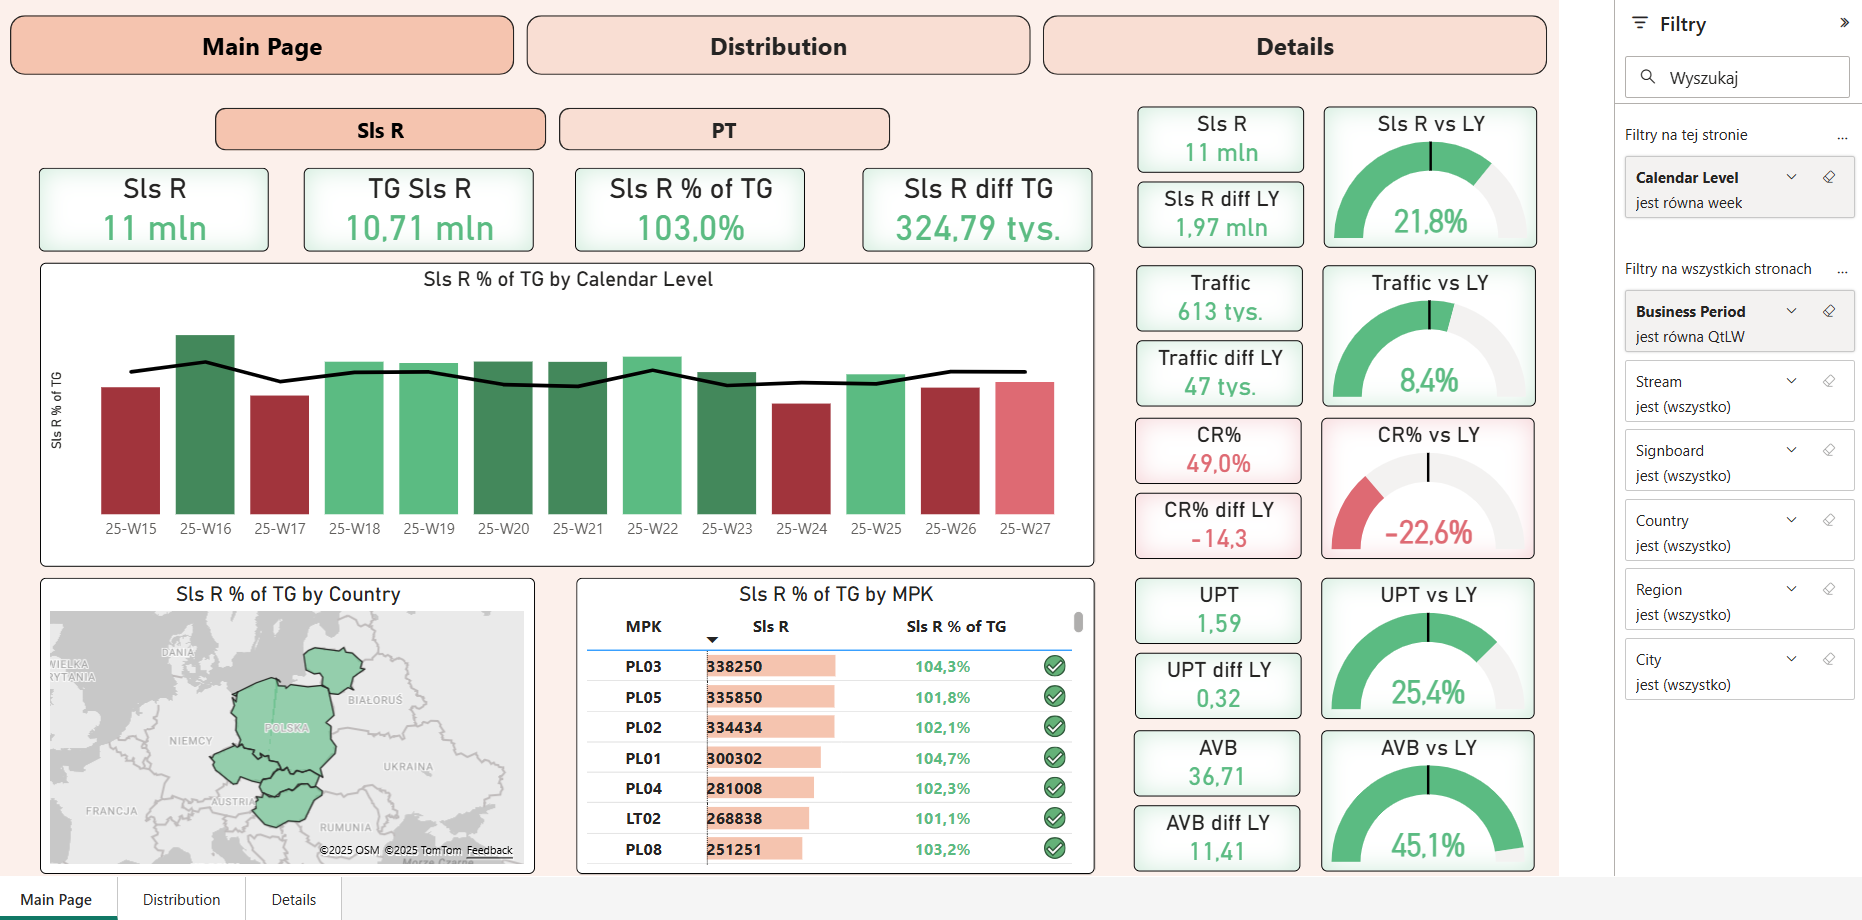

This screenshot's page, from the dashboard's own definition file:
{"tool":"powerbi","page":{"name":"Main Page","canvas":[1280,720],"ordinal":0},"visuals":[{"type":"card","title":"Sls R","fields":{"Values":["Sum(corrected_sales_calendar.Sls R)"]},"box":[933.8,88.5,137.2,54.1],"z":0,"group":"g2"},{"type":"group","id":"g1","title":"Group 3","box":[31.9,138.9,866.9,579.4],"z":0},{"type":"gauge","title":"Sls R vs LY","fields":{"MinValue":["corrected_sales_calendar.Minimum value"],"MaxValue":["corrected_sales_calendar.Maximum value"],"Y":["corrected_sales_calendar.Sls R vs LY"],"TargetValue":["corrected_sales_calendar.Target Value"]},"box":[1087.5,88.5,175.6,116.1],"z":1000,"group":"g2"},{"type":"azureMap","title":"Sls R % of TG by Country","fields":{"Category":["corrected_sales_calendar.Country Full Name"]},"box":[32.9,475.2,406.1,243.1],"z":1000,"group":"g1"},{"type":"group","id":"g2","title":"Group 4","box":[931.1,88.5,331.9,628.1],"z":2000},{"type":"card","title":"Sls R diff LY","fields":{"Values":["corrected_sales_calendar.Sls R diff LY"]},"box":[933.8,150.5,137.2,54.1],"z":2000,"group":"g2"},{"type":"bookmarkNavigator","box":[177,89.2,555.7,35.7],"z":3000},{"type":"card","title":"Traffic","fields":{"Values":["Sum(corrected_sales_calendar.Traffic)"]},"box":[932.9,218.5,137.2,54.1],"z":3000,"group":"g2"},{"type":"tableEx","title":"Sls R % of TG by MPK","fields":{"Values":["corrected_sales_calendar.MPK","Sum(corrected_sales_calendar.Sls R)","corrected_sales_calendar.Sls % of TG"]},"box":[473.4,475.2,425.4,243.1],"z":3000,"group":"g1"},{"type":"pageNavigator","box":[8.2,13.7,1263.8,49.4],"z":3001},{"type":"lineClusteredColumnComboChart","title":"Sls R % of TG by Calendar Level","fields":{"Category":["corrected_sales_calendar.week"],"Y":["Sum(corrected_sales_calendar.Sls R)"],"Y2":["Sum(corrected_sales_calendar.Tg Sls R)"]},"box":[32.9,217.2,865.8,249.3],"z":4000,"group":"g1"},{"type":"gauge","title":"Traffic vs LY","fields":{"MinValue":["corrected_sales_calendar.Minimum value"],"MaxValue":["corrected_sales_calendar.Maximum value"],"TargetValue":["corrected_sales_calendar.Target Value"],"Y":["corrected_sales_calendar.Traffic vs LY"]},"box":[1086.5,218.5,175.6,116.1],"z":4000,"group":"g2"},{"type":"group","id":"g3","title":"Group 2","box":[31.9,138.9,865.9,68.6],"z":5000,"group":"g1"},{"type":"card","title":"Traffic diff LY","fields":{"Values":["corrected_sales_calendar.Traffic diff LY"]},"box":[932.9,280.5,137.2,54.1],"z":5000,"group":"g2"},{"type":"card","title":"Sls R","fields":{"Values":["Sum(corrected_sales_calendar.Sls R)"]},"box":[31.9,138.9,189.1,68.6],"z":6000,"group":"g3"},{"type":"card","title":"CR%","fields":{"Values":["corrected_sales_calendar.CR"]},"box":[931.8,344.1,137.2,54.1],"z":6000,"group":"g2"},{"type":"gauge","title":"CR% vs LY","fields":{"MinValue":["corrected_sales_calendar.Minimum value"],"MaxValue":["corrected_sales_calendar.Maximum value"],"TargetValue":["corrected_sales_calendar.Target Value"],"Y":["corrected_sales_calendar.cr vs ly"]},"box":[1085.4,344.1,175.6,116.1],"z":7000,"group":"g2"},{"type":"card","title":"CR% diff LY","fields":{"Values":["corrected_sales_calendar.CR diff LY"]},"box":[931.8,406.1,137.2,54.1],"z":8000,"group":"g2"},{"type":"card","title":"TG Sls R","fields":{"Values":["Sum(corrected_sales_calendar.Tg Sls R)"]},"box":[249.4,138.9,189.1,68.6],"z":9000,"group":"g3"},{"type":"card","title":"UPT","fields":{"Values":["corrected_sales_calendar.UPT"]},"box":[931.8,475,137.2,54.1],"z":9000,"group":"g2"},{"type":"card","title":"Sls R % of TG","fields":{"Values":["corrected_sales_calendar.Sls R % of TG"]},"box":[472.3,138.9,189.1,68.6],"z":10000,"group":"g3"},{"type":"gauge","title":"UPT vs LY","fields":{"MinValue":["corrected_sales_calendar.Minimum value"],"MaxValue":["corrected_sales_calendar.Maximum value"],"TargetValue":["corrected_sales_calendar.Target Value"],"Y":["corrected_sales_calendar.UPT vs LY"]},"box":[1084.7,475.1,175.6,116.1],"z":10000,"group":"g2"},{"type":"card","title":"Sls R diff TG","fields":{"Values":["corrected_sales_calendar.Sls R diff TG"]},"box":[708.7,138.9,189.1,68.6],"z":11000,"group":"g3"},{"type":"card","title":"UPT diff LY","fields":{"Values":["corrected_sales_calendar.UPT diff LY"]},"box":[931.8,537,137.2,54.1],"z":11000,"group":"g2"},{"type":"group","id":"g4","title":"Group 1","box":[931.1,600.5,329.2,116.1],"z":12000,"group":"g2"},{"type":"card","title":"AVB","fields":{"Values":["corrected_sales_calendar.AVB"]},"box":[931.1,600.5,137.2,54.1],"z":16000,"group":"g4"},{"type":"gauge","title":"AVB vs LY","fields":{"MinValue":["corrected_sales_calendar.Minimum value"],"MaxValue":["corrected_sales_calendar.Maximum value"],"TargetValue":["corrected_sales_calendar.Target Value"],"Y":["corrected_sales_calendar.AVB vs LY"]},"box":[1084.7,600.5,175.6,116.1],"z":17000,"group":"g4"},{"type":"card","title":"AVB diff LY","fields":{"Values":["corrected_sales_calendar.AVB diff LY"]},"box":[931.1,662.5,137.2,54.1],"z":18000,"group":"g4"}]}

Visuals, with their boxes in screenshot pixels (x1, y1, x2, y2):
"Sls R" card: 1132:103:1299:169
"Group 3" group: 34:164:1089:869
"Sls R vs LY" gauge: 1319:103:1533:244
"Sls R % of TG by Country" azureMap: 35:574:529:869
"Group 4" group: 1128:103:1532:867
"Sls R diff LY" card: 1132:178:1299:244
bookmarkNavigator: 211:104:887:147
"Traffic" card: 1131:261:1298:327
"Sls R % of TG by MPK" tableEx: 571:574:1089:869
pageNavigator: 5:12:1543:72
"Sls R % of TG by Calendar Level" lineClusteredColumnComboChart: 35:260:1089:563
"Traffic vs LY" gauge: 1318:261:1531:402
"Group 2" group: 34:164:1088:248
"Traffic diff LY" card: 1131:337:1298:402
"Sls R" card: 34:164:264:248
"CR%" card: 1129:414:1296:480
"CR% vs LY" gauge: 1316:414:1530:555
"CR% diff LY" card: 1129:489:1296:555
"TG Sls R" card: 299:164:529:248
"UPT" card: 1129:573:1296:639
"Sls R % of TG" card: 570:164:800:248
"UPT vs LY" gauge: 1315:573:1529:715
"Sls R diff TG" card: 858:164:1088:248
"UPT diff LY" card: 1129:649:1296:715
"Group 1" group: 1128:726:1529:867
"AVB" card: 1128:726:1295:792
"AVB vs LY" gauge: 1315:726:1529:867
"AVB diff LY" card: 1128:802:1295:867
